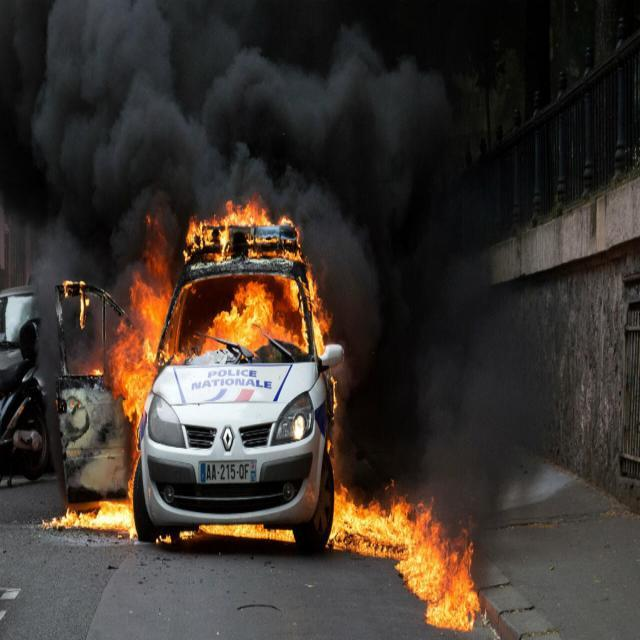Fire: (110, 196, 331, 431), (330, 480, 478, 630), (43, 494, 134, 533)
Smoke: (0, 0, 551, 529)
